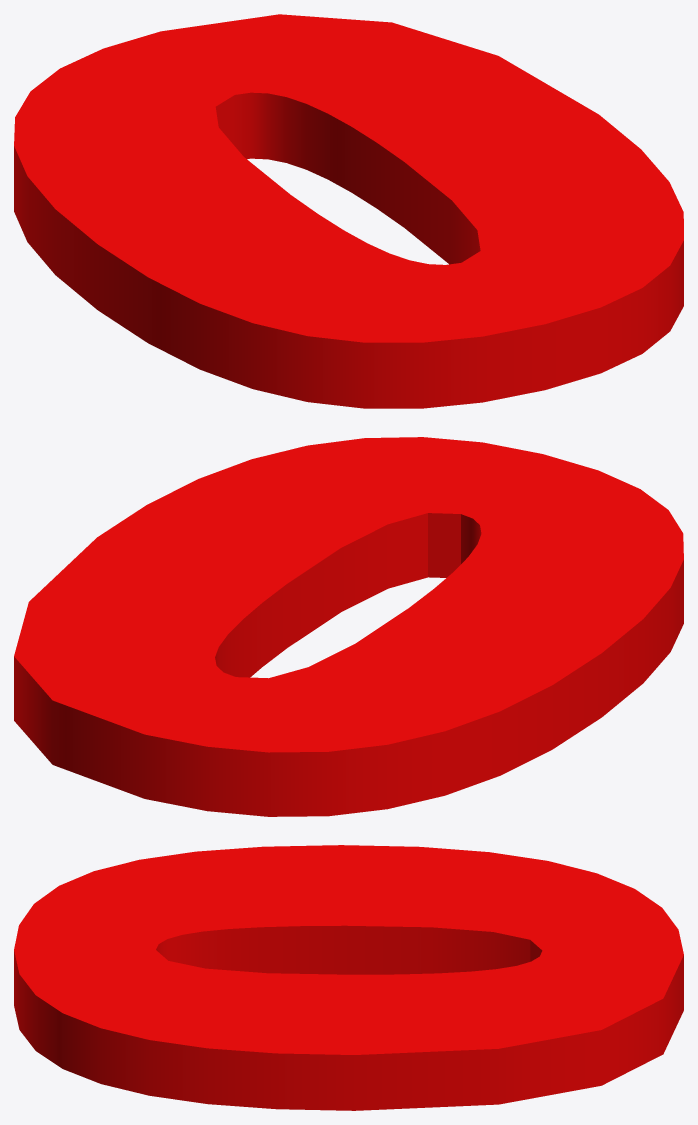
The model's file is NumberModel_0.gltf.
3 renders of one model, top to bottom at view 1: azimuth 30°, elevation 25°; view 2: azimuth 150°, elevation 25°; view 3: azimuth 270°, elevation 25°, orthographic. The views are drawn at different scales.
Visible parts, largest first — view 1: NumberModel_0; view 2: NumberModel_0; view 3: NumberModel_0.
Boxes of the visible parts, x1,y1,x2,y2 form: NumberModel_0: (14, 14, 683, 408); NumberModel_0: (14, 437, 683, 816); NumberModel_0: (14, 845, 683, 1110).
Size of the model in its own units: 0.6172 by 0.0764 by 0.8321.
